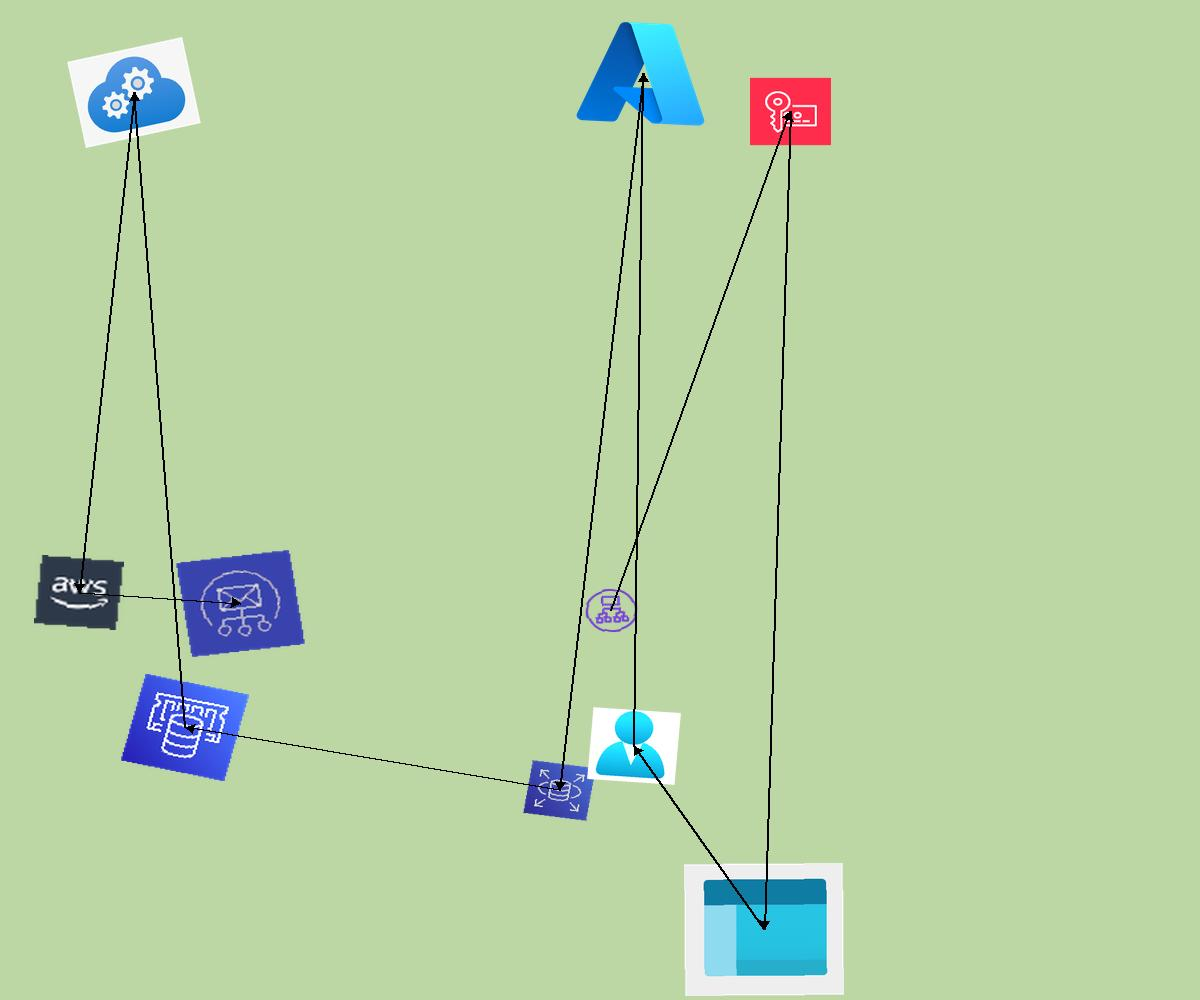AWS-Cloud-logo: (34, 555, 124, 630)
AWS-ElastiCache: (120, 673, 250, 782)
AWS-Key-Management-Service: (749, 77, 832, 146)
AWS-RDS: (523, 760, 596, 821)
AWS-Res_Elastic-Load-Balancing_Application-Load-Balancer: (581, 585, 642, 636)
AWS-Simple-Email-Service: (175, 549, 306, 658)
Azure_cloud_services: (67, 37, 201, 148)
Azure_management-portal: (684, 863, 844, 996)
Azure_services: (570, 12, 717, 134)
Azure_users: (587, 707, 681, 785)
